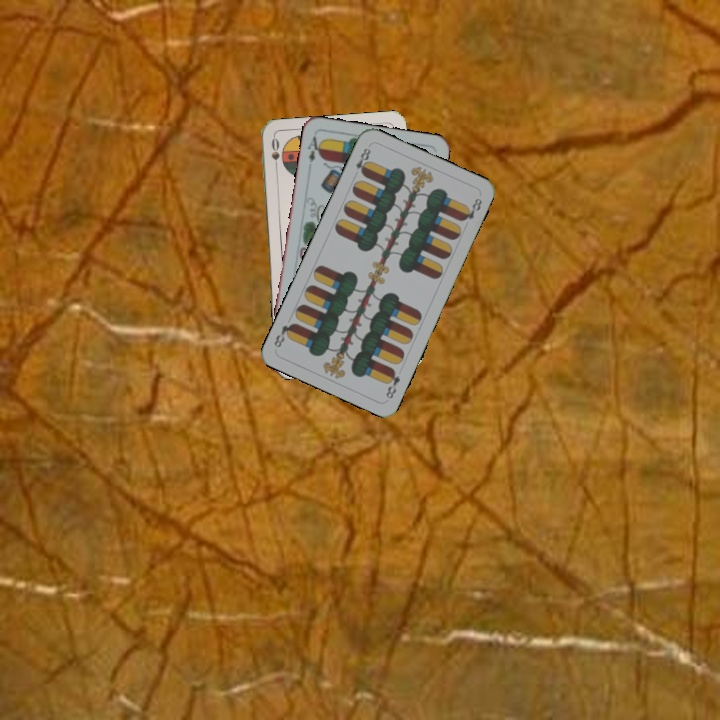E8: (382, 365, 403, 401), (351, 144, 373, 178)
EA: (304, 132, 324, 165)
SO: (267, 134, 282, 174)
